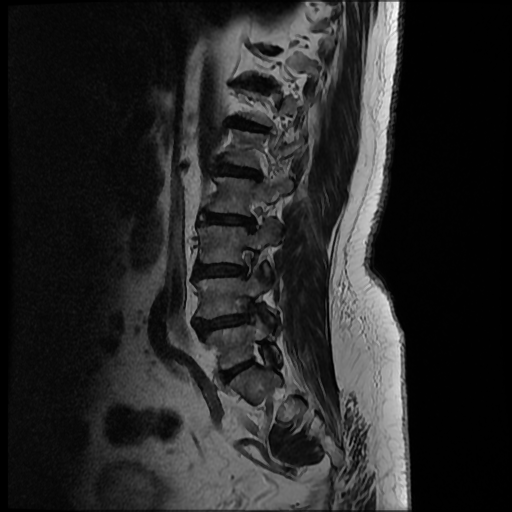RFS0: (232, 240, 263, 287)
